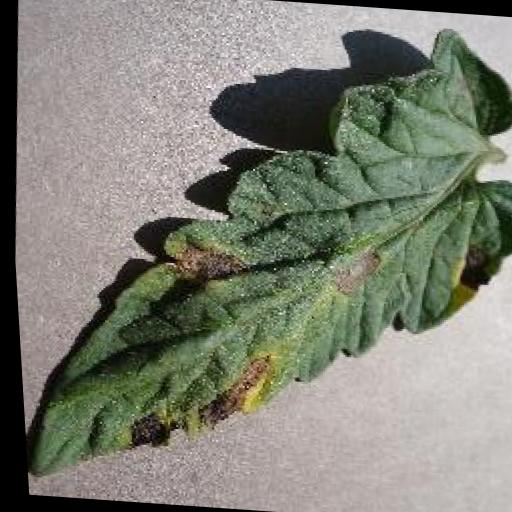Early Blight: (2, 0, 512, 509)
